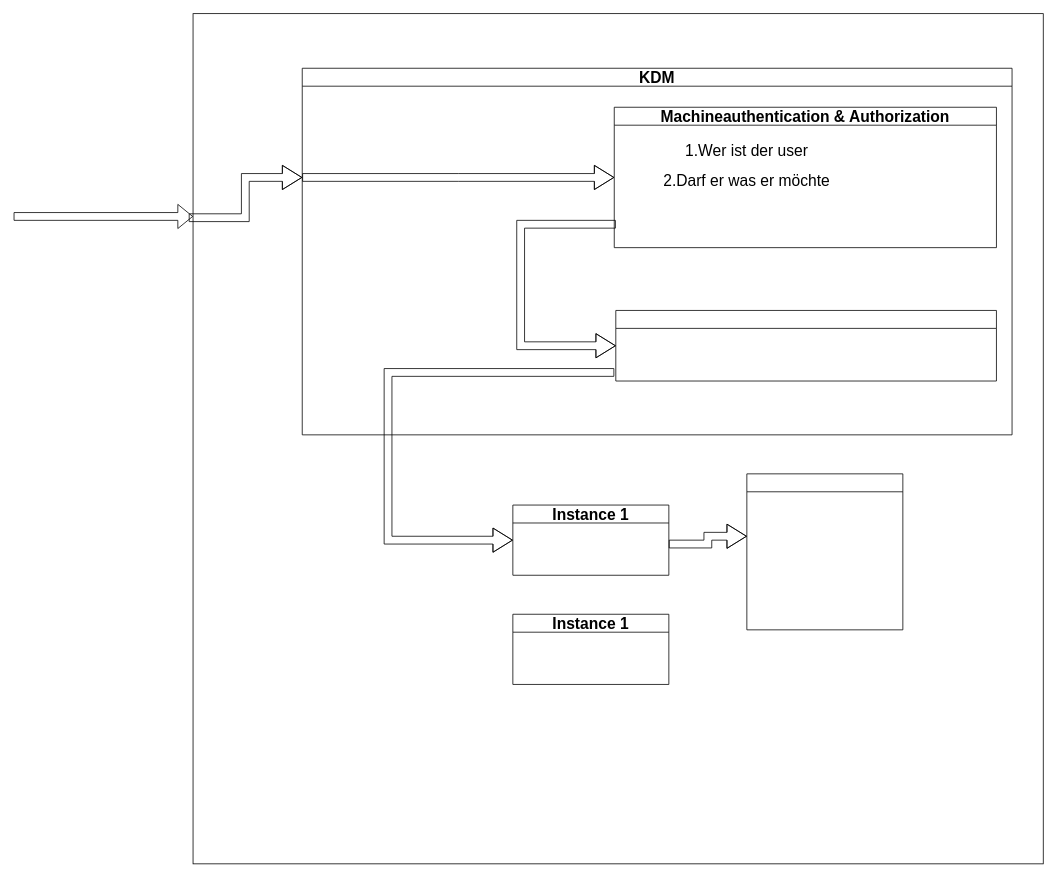
The diagram is 1057 pixels wide and 877 high, and some of its shapes have lost their labels. Here are the shapes that lost their labels. From the top down, the centre of each, then its label:
At pixel 805 345: "InstanceSerice (ProjectActivationService)".
At pixel 824 551: "SmartHMI".
